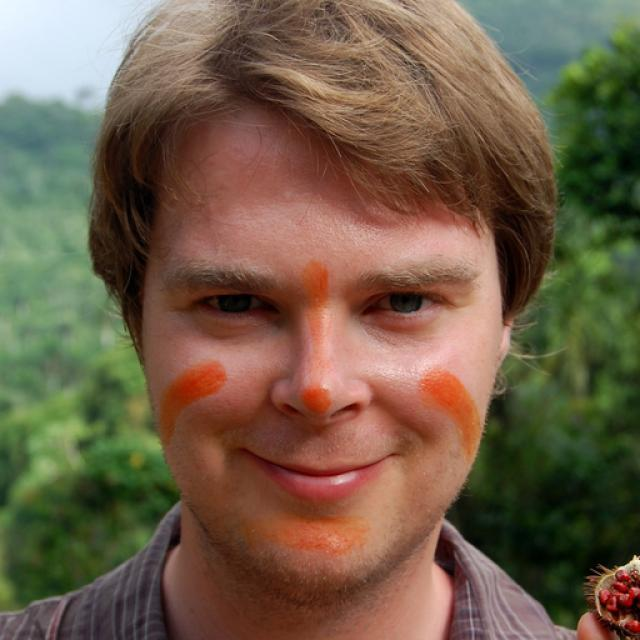content: (143, 127, 502, 588)
